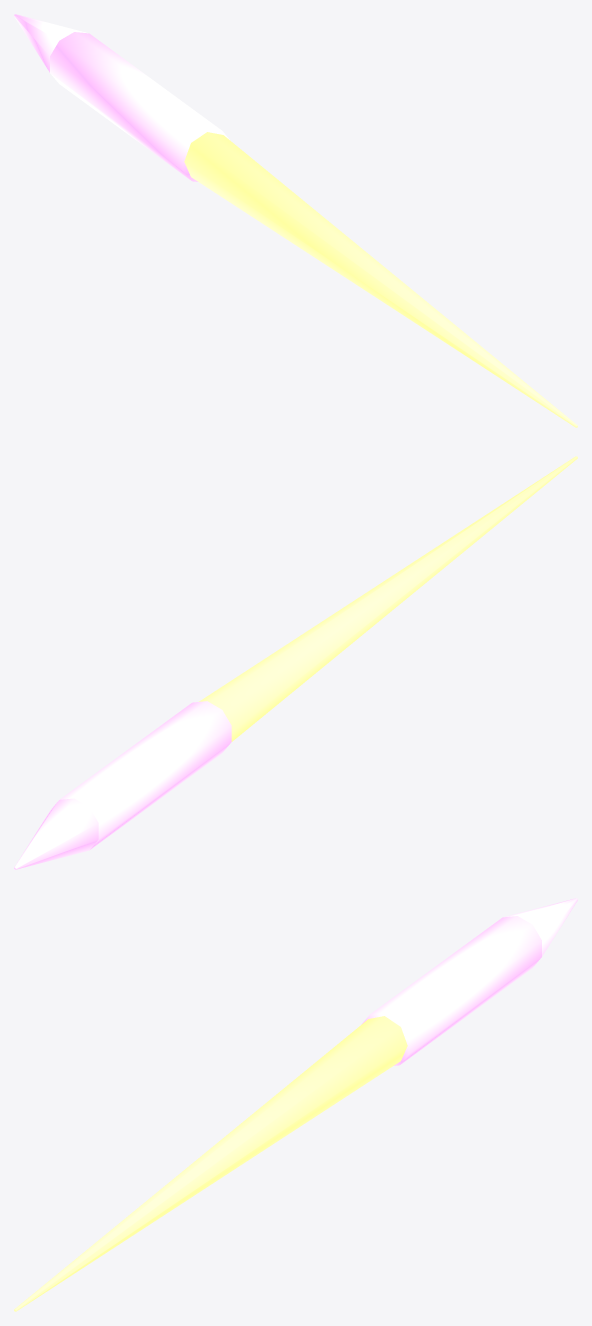
Rendered from Slug.fbx.
3 renders of one model, top to bottom at view 1: azimuth 30°, elevation 25°; view 2: azimuth 150°, elevation 25°; view 3: azimuth 330°, elevation 25°, orthographic.
Parts seen in each view (by area): view 1: Emit_Trail0, Slug_Body0, Slug_Tip0; view 2: Emit_Trail0, Slug_Body0, Slug_Tip0; view 3: Emit_Trail0, Slug_Body0, Slug_Tip0.
Boxes of the visible parts, <box> form: Emit_Trail0: <box>184,132,577,427</box>; Slug_Body0: <box>50,32,229,181</box>; Slug_Tip0: <box>14,14,87,72</box>; Emit_Trail0: <box>199,456,577,741</box>; Slug_Body0: <box>59,701,231,849</box>; Slug_Tip0: <box>14,798,98,869</box>; Emit_Trail0: <box>14,1016,407,1311</box>; Slug_Body0: <box>362,916,541,1065</box>; Slug_Tip0: <box>504,898,577,956</box>.
Size of the model in its own units: 0.038 by 0.76 by 0.04.
